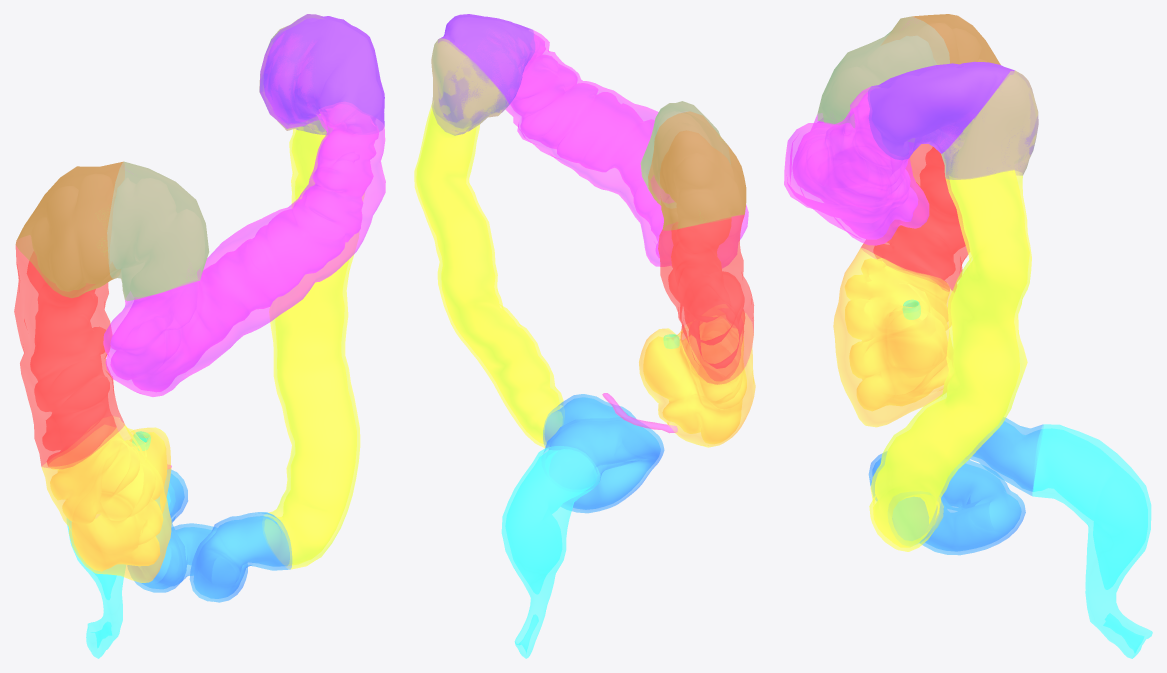
Rendered from kolon-male-mobil.glb.
The picture shows the model from 3 angles, left to right: view 1: azimuth 30°, elevation 25°; view 2: azimuth 150°, elevation 25°; view 3: azimuth 270°, elevation 25°; orthographic projection. The views are drawn at different scales.
Visible parts, largest first — view 1: 0:8:VH_M_transverse_colon, 0:0:VH_M_ascending_colon, 0:2:VH_M_descending_colon, 0:3:VH_M_hepatic_flexure_of_colon, 0:1:VH_M_caecum, 0:7:VH_M_splenic_flexure_of_colon, 0:6:VH_M_sigmoid_colon, 0:5:VH_M_rectum; view 2: 0:2:VH_M_descending_colon, 0:8:VH_M_transverse_colon, 0:0:VH_M_ascending_colon, 0:1:VH_M_caecum, 0:6:VH_M_sigmoid_colon, 0:5:VH_M_rectum, 0:3:VH_M_hepatic_flexure_of_colon, 0:7:VH_M_splenic_flexure_of_colon, 0:9:VH_M_vermiform_appendix; view 3: 0:2:VH_M_descending_colon, 0:8:VH_M_transverse_colon, 0:1:VH_M_caecum, 0:7:VH_M_splenic_flexure_of_colon, 0:5:VH_M_rectum, 0:6:VH_M_sigmoid_colon, 0:0:VH_M_ascending_colon, 0:3:VH_M_hepatic_flexure_of_colon.
Boxes of the visible parts, x1=… form: 0:8:VH_M_transverse_colon: x1=103, y1=14, x2=385, y2=396; 0:0:VH_M_ascending_colon: x1=14, y1=162, x2=124, y2=468; 0:2:VH_M_descending_colon: x1=259, y1=16, x2=364, y2=569; 0:3:VH_M_hepatic_flexure_of_colon: x1=16, y1=161, x2=208, y2=300; 0:1:VH_M_caecum: x1=41, y1=416, x2=171, y2=582; 0:7:VH_M_splenic_flexure_of_colon: x1=259, y1=14, x2=384, y2=134; 0:6:VH_M_sigmoid_colon: x1=127, y1=469, x2=291, y2=602; 0:5:VH_M_rectum: x1=67, y1=492, x2=170, y2=658; 0:2:VH_M_descending_colon: x1=414, y1=38, x2=563, y2=447; 0:8:VH_M_transverse_colon: x1=441, y1=14, x2=748, y2=267; 0:0:VH_M_ascending_colon: x1=648, y1=111, x2=753, y2=384; 0:1:VH_M_caecum: x1=639, y1=313, x2=755, y2=447; 0:6:VH_M_sigmoid_colon: x1=543, y1=394, x2=664, y2=513; 0:5:VH_M_rectum: x1=501, y1=446, x2=600, y2=658; 0:3:VH_M_hepatic_flexure_of_colon: x1=640, y1=101, x2=745, y2=230; 0:7:VH_M_splenic_flexure_of_colon: x1=431, y1=14, x2=534, y2=135; 0:9:VH_M_vermiform_appendix: x1=602, y1=393, x2=677, y2=432; 0:2:VH_M_descending_colon: x1=869, y1=70, x2=1038, y2=551; 0:8:VH_M_transverse_colon: x1=784, y1=17, x2=1014, y2=245; 0:1:VH_M_caecum: x1=833, y1=247, x2=953, y2=427; 0:7:VH_M_splenic_flexure_of_colon: x1=868, y1=62, x2=1038, y2=179; 0:5:VH_M_rectum: x1=1032, y1=424, x2=1152, y2=658; 0:6:VH_M_sigmoid_colon: x1=868, y1=417, x2=1043, y2=555; 0:0:VH_M_ascending_colon: x1=861, y1=14, x2=1000, y2=292; 0:3:VH_M_hepatic_flexure_of_colon: x1=817, y1=14, x2=1000, y2=124.
Size of the model in its own units: 0.2591 by 0.4503 by 0.2248.
